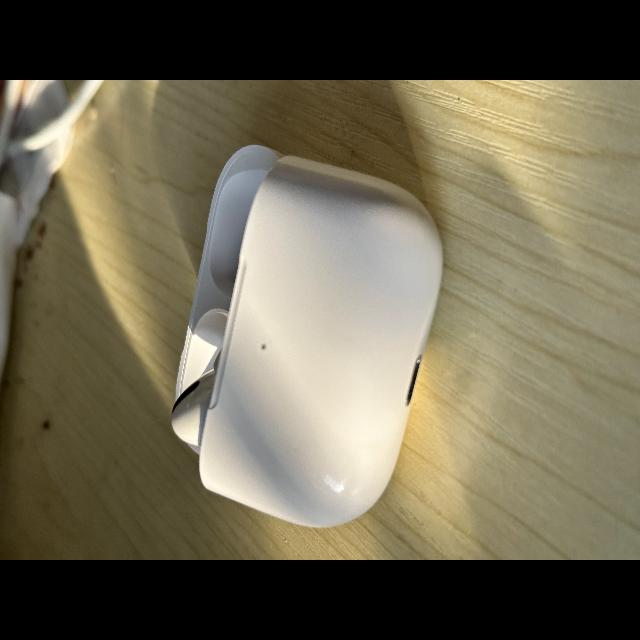AirPods Pro: (171, 144, 443, 528)
